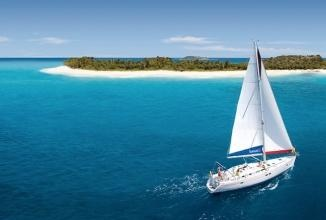fanchuan: (205, 36, 295, 194)
